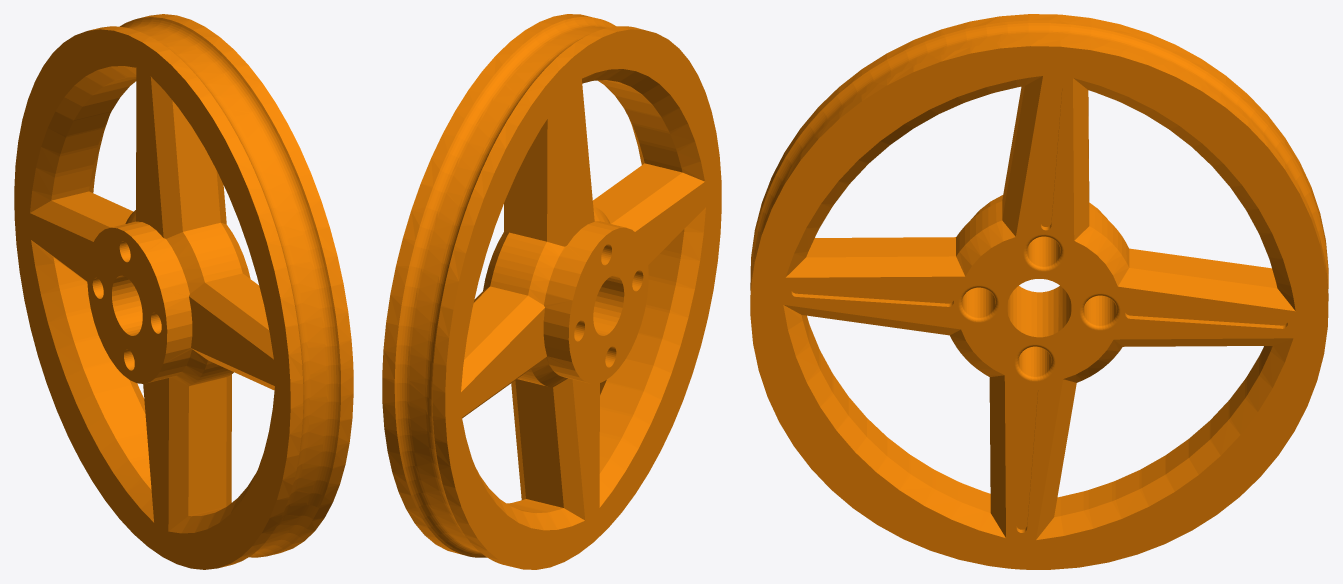
The model's file is LeftWheel.dae.
The picture shows the model from 3 angles, left to right: view 1: azimuth 30°, elevation 25°; view 2: azimuth 150°, elevation 25°; view 3: azimuth 270°, elevation 25°; orthographic projection. The views are drawn at different scales.
Visible parts, largest first — view 1: Roda_learn - Roda esquerda; view 2: Roda_learn - Roda esquerda; view 3: Roda_learn - Roda esquerda.
Part boxes in pixels (box(x1,y1,x2,y2)): Roda_learn - Roda esquerda: box(14, 14, 353, 569); Roda_learn - Roda esquerda: box(382, 14, 721, 569); Roda_learn - Roda esquerda: box(750, 14, 1328, 569).
Size of the model in its own units: 0.014 by 0.076 by 0.076.
